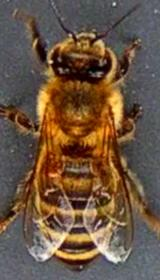varroa_mite: (32, 142, 79, 185)
